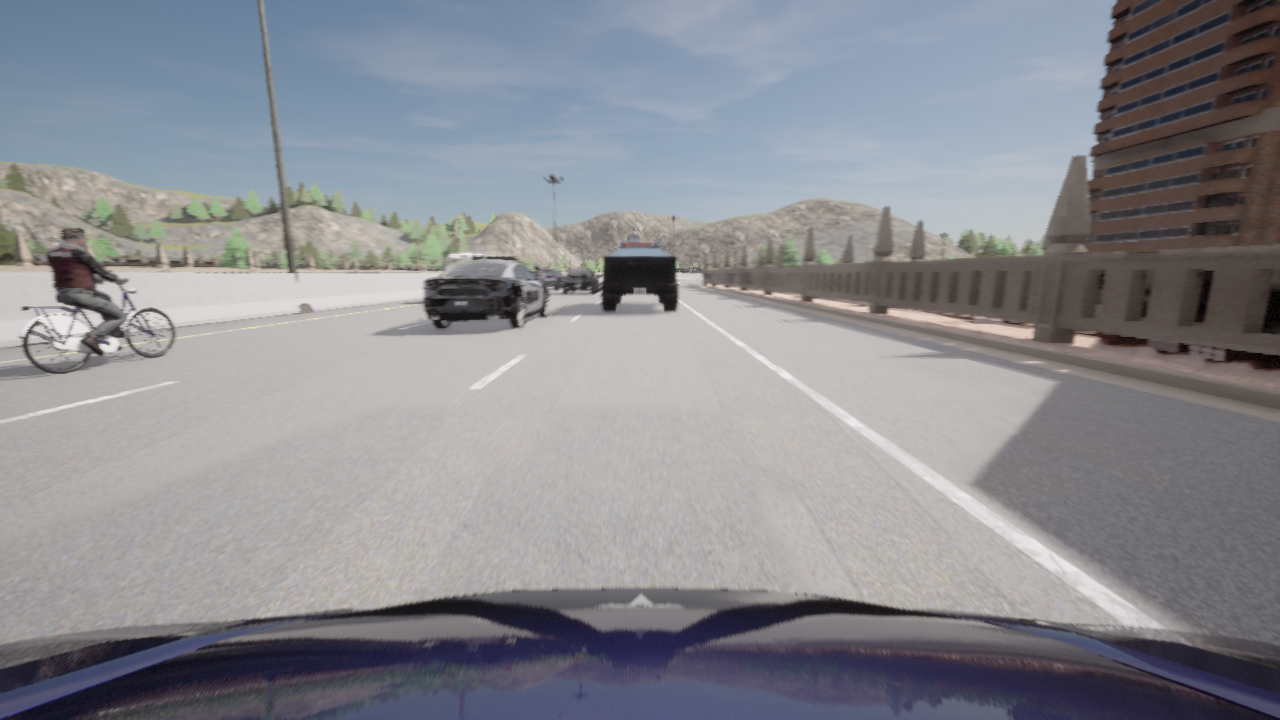cyclist: (0, 588, 1279, 719), (19, 279, 174, 373), (424, 255, 549, 329), (602, 248, 677, 310), (563, 268, 601, 293), (445, 253, 492, 270), (534, 268, 563, 289), (620, 235, 659, 247)
